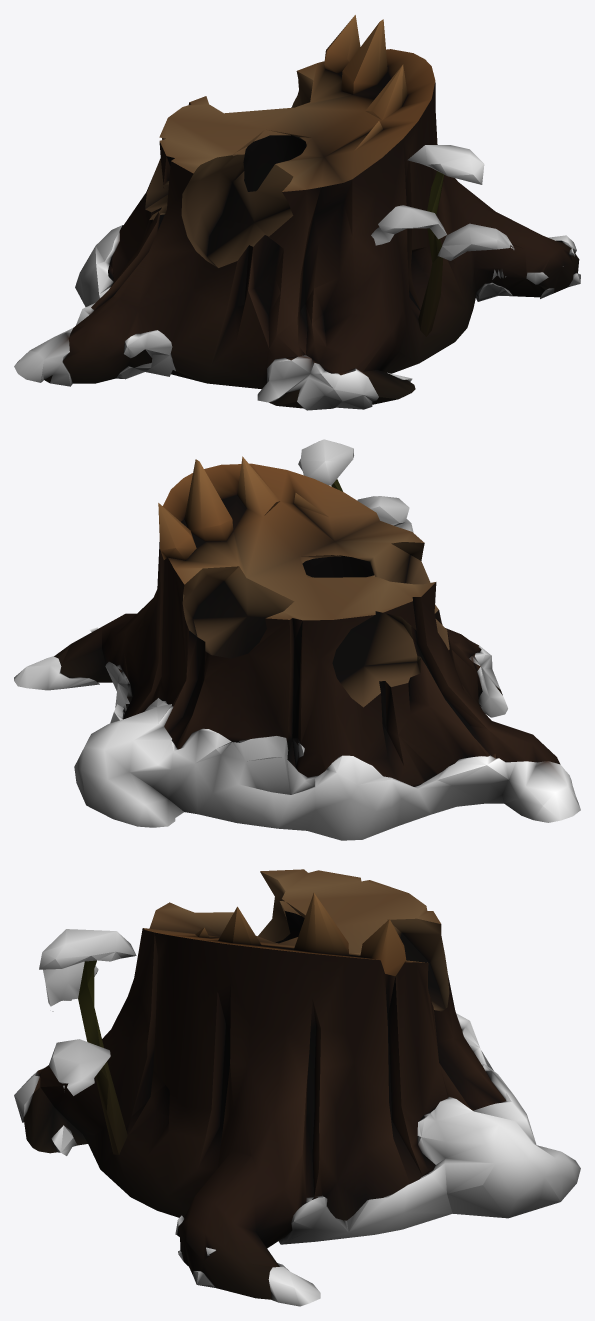
File: stump_a.glb
3 renders of one model, top to bottom at view 1: azimuth 30°, elevation 25°; view 2: azimuth 150°, elevation 25°; view 3: azimuth 270°, elevation 25°, orthographic. The views are drawn at different scales.
Parts seen in each view (by area): view 1: stump_a_LOD0; view 2: stump_a_LOD0; view 3: stump_a_LOD0.
Part boxes in pixels (left/top/right/bottom): stump_a_LOD0: left=14, top=15, right=580, bottom=410; stump_a_LOD0: left=14, top=439, right=580, bottom=840; stump_a_LOD0: left=14, top=869, right=580, bottom=1306.
Size of what is drawn, in the model's own units: 1.33 by 0.6083 by 1.01.
